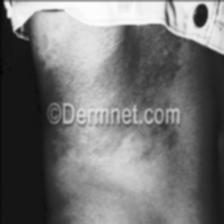Potentially Malignant Skin Tumors: (136, 36, 178, 82), (160, 129, 184, 150)
